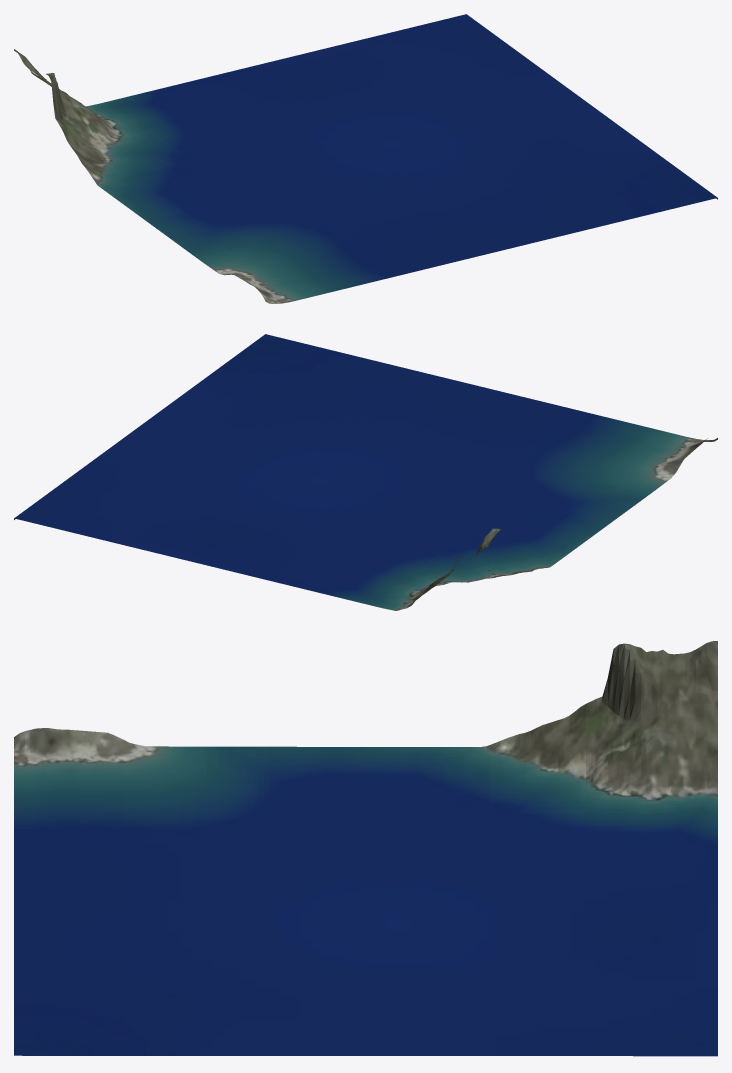
3 views of the same model, one above another, from view 1: azimuth 30°, elevation 25°; view 2: azimuth 150°, elevation 25°; view 3: azimuth 270°, elevation 25° (orthographic). The views are drawn at different scales.
Size of the model in its own units: 250 by 40.98 by 241.
1 material, 1 textured.
